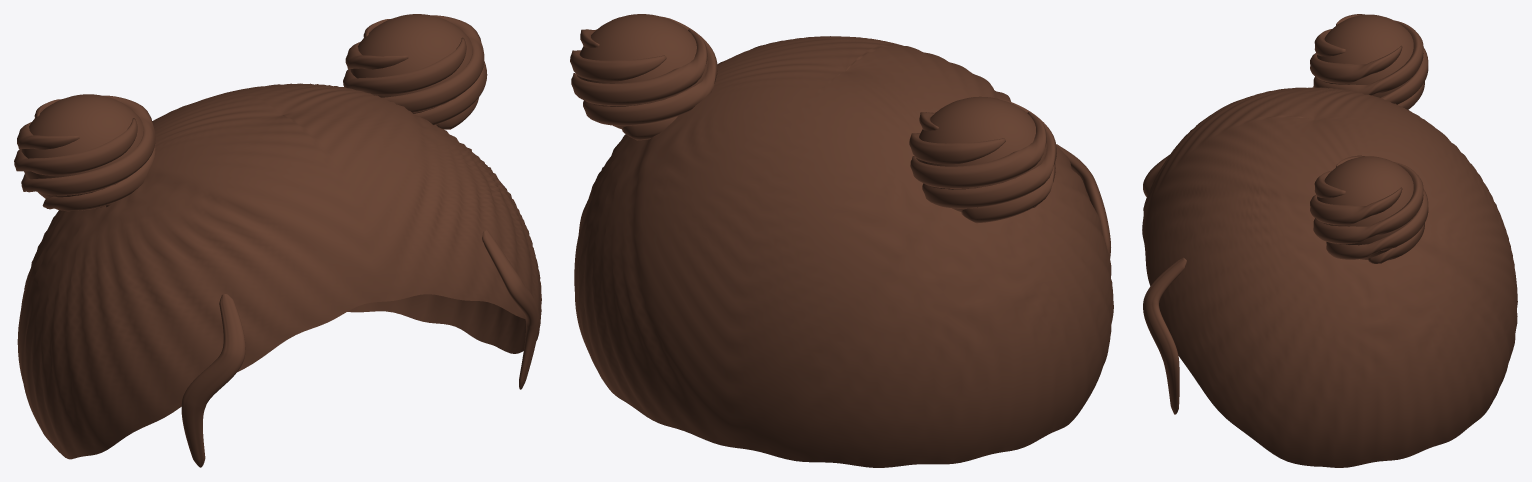
The model's file is Feminine-space-buns-hair.glb.
3 renders of one model, left to right at view 1: azimuth 30°, elevation 25°; view 2: azimuth 150°, elevation 25°; view 3: azimuth 270°, elevation 25°, orthographic. The views are drawn at different scales.
Visible parts, largest first — view 1: 226 hair / Hair / chestnut226; view 2: 226 hair / Hair / chestnut226; view 3: 226 hair / Hair / chestnut226.
Boxes of the visible parts, left/top/right/bottom form: 226 hair / Hair / chestnut226: left=14, top=14, right=541, bottom=467; 226 hair / Hair / chestnut226: left=570, top=14, right=1113, bottom=467; 226 hair / Hair / chestnut226: left=1142, top=14, right=1517, bottom=467.
Bounding box in the file's own units: 0.9988 × 0.6556 × 0.7845.
